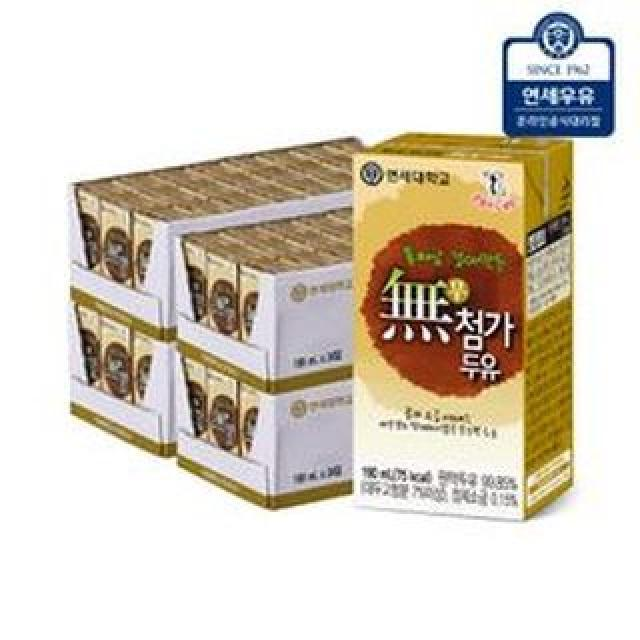Tetra: (350, 118, 584, 544)
